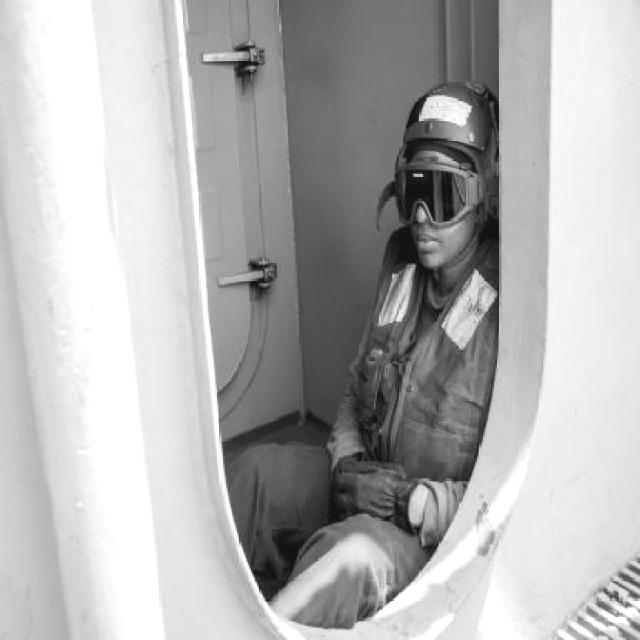face_nomask: (399, 168, 467, 260)
glasses: (396, 152, 493, 226)
hand_glove: (336, 450, 409, 518)
head_helmet: (399, 82, 495, 153)
person: (221, 79, 505, 636)
